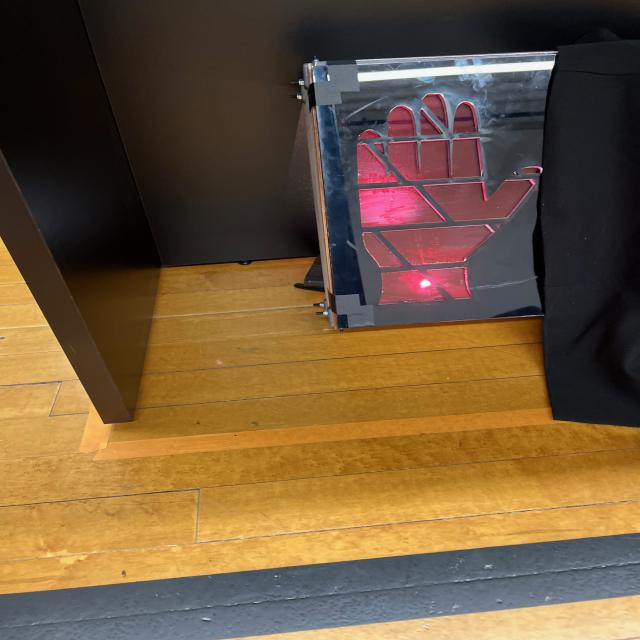stop: (318, 78, 546, 319)
